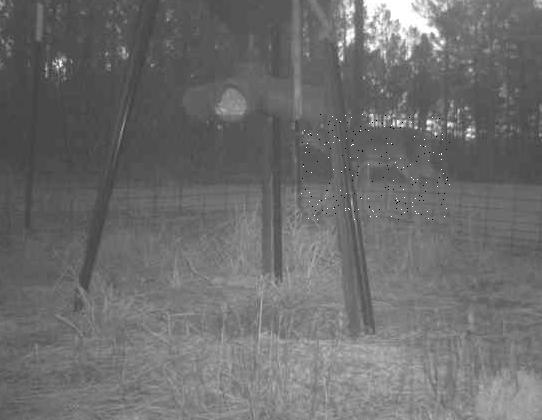Deer: (301, 115, 452, 221)
